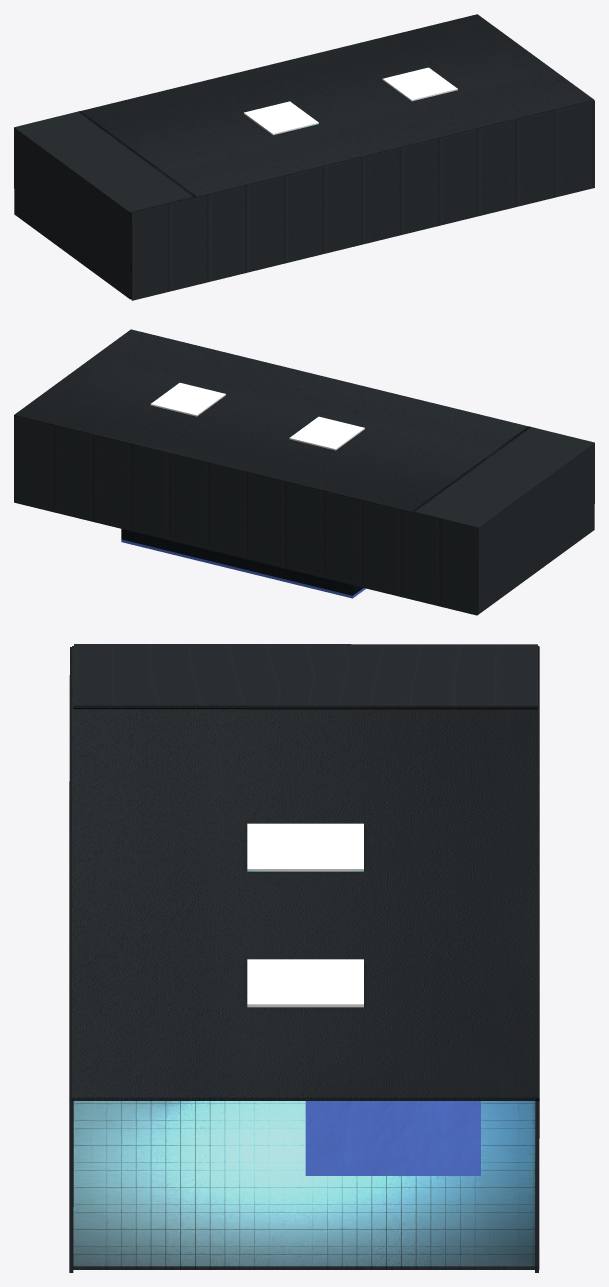
File: liminal_pool_room_baked.glb
3 renders of one model, top to bottom at view 1: azimuth 30°, elevation 25°; view 2: azimuth 150°, elevation 25°; view 3: azimuth 270°, elevation 25°, orthographic. The views are drawn at different scales.
Visible parts, largest first — view 1: Plane.003_4, Plane.001_2, Plane.004_5; view 2: Plane.003_4, Plane.002_3, Plane.004_5, Plane_1; view 3: Plane.003_4, Plane_1, Plane.004_5, Plane.005_6, Plane.001_2, Plane.002_3.
Boxes of the visible parts, x1,y1,x2,y2 form: Plane.003_4: (80,14,593,213); Plane.001_2: (131,100,594,300); Plane.004_5: (14,111,195,299); Plane.003_4: (14,329,587,528); Plane.002_3: (14,415,477,615); Plane.004_5: (412,426,594,614); Plane_1: (14,499,477,613); Plane.003_4: (72,646,539,1100); Plane_1: (72,1101,539,1269); Plane.004_5: (73,644,537,709); Plane.005_6: (305,1101,480,1175); Plane.001_2: (69,647,73,1272); Plane.002_3: (535,647,539,1272).
Bounding box in the file's own units: 33.05 × 7.93 × 14.5.
9 materials, 7 textured.
